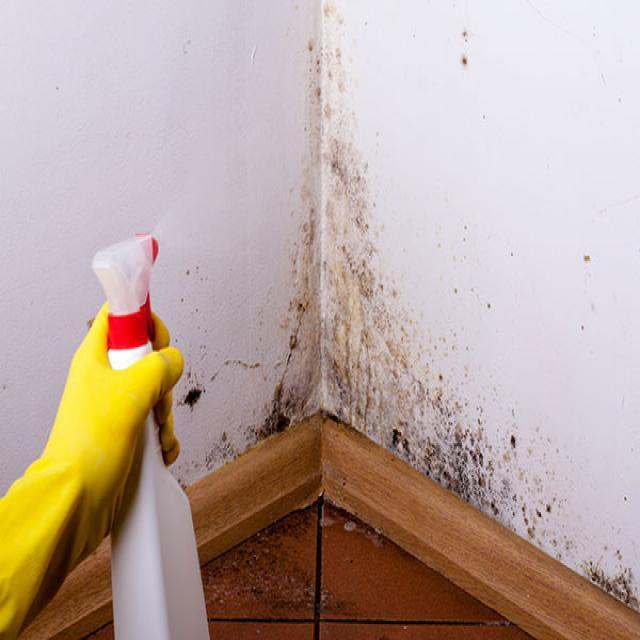wall_mold: (274, 7, 361, 419), (427, 358, 528, 516), (368, 233, 416, 452), (586, 538, 640, 607), (183, 364, 210, 411)
